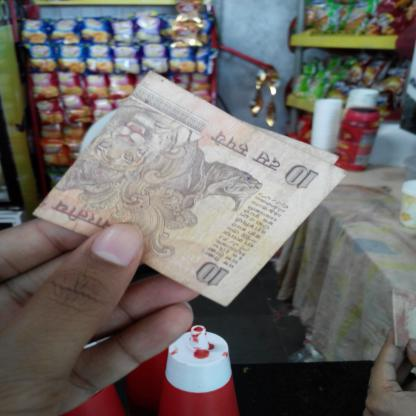Old10Back: (30, 69, 347, 308)
